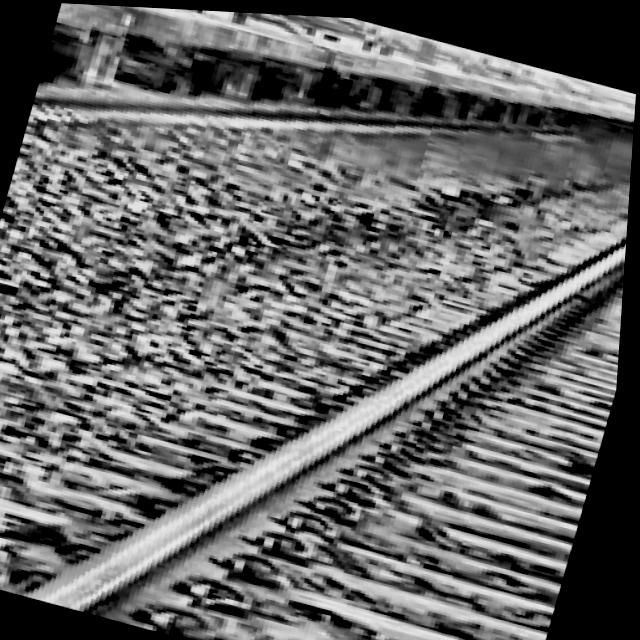Gerbong: (39, 2, 338, 139), (15, 1, 151, 189), (401, 38, 589, 142), (268, 16, 440, 122), (525, 63, 638, 143)
Lokomotif: (528, 62, 638, 140)
